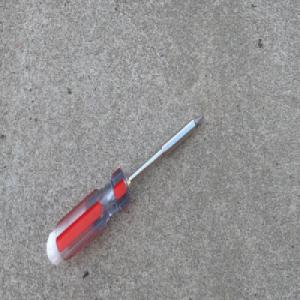Screwdriver: (45, 112, 205, 268)
